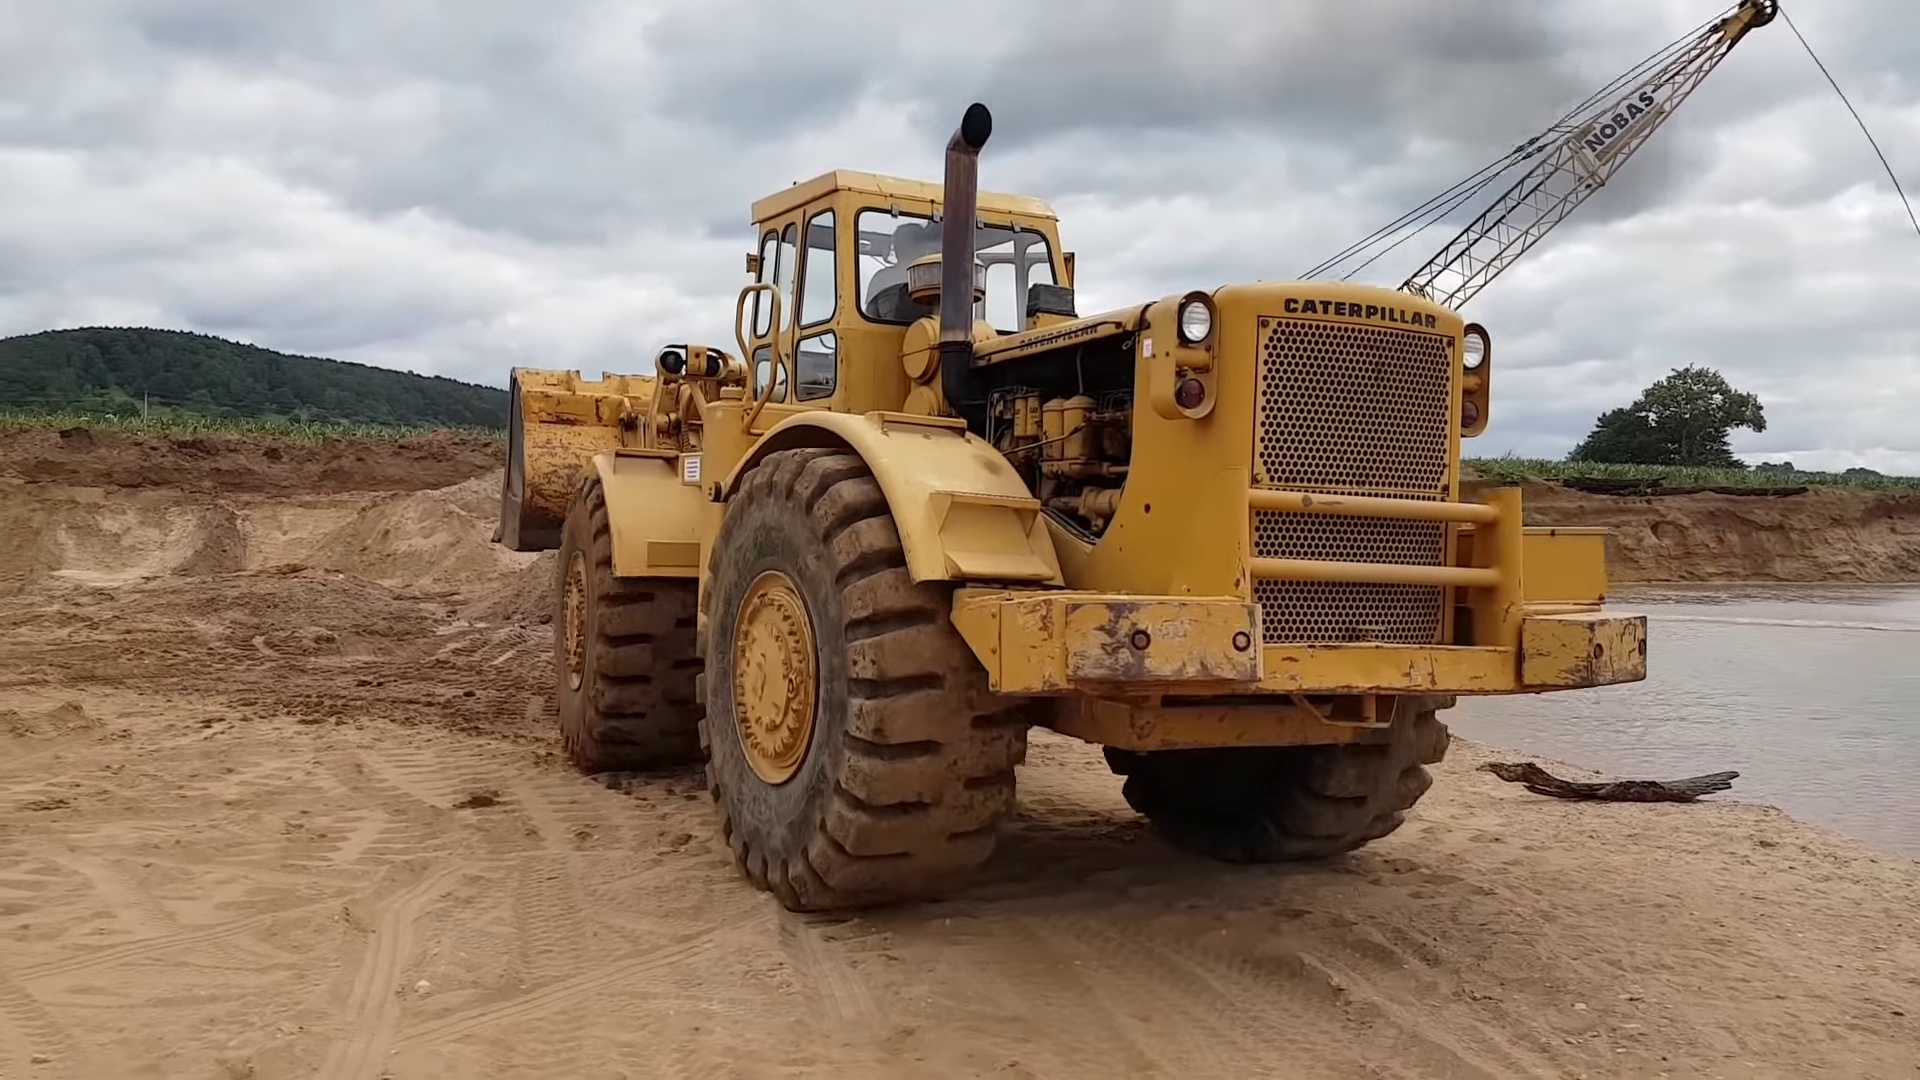wheel loader: (492, 108, 1647, 909)
